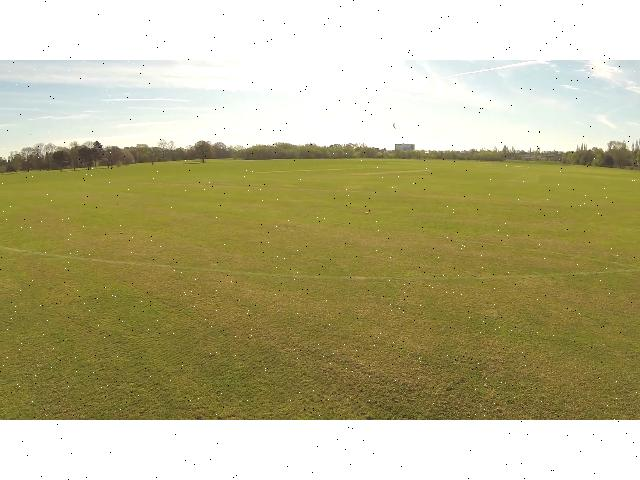Anti-Drone: (390, 119, 400, 133)
